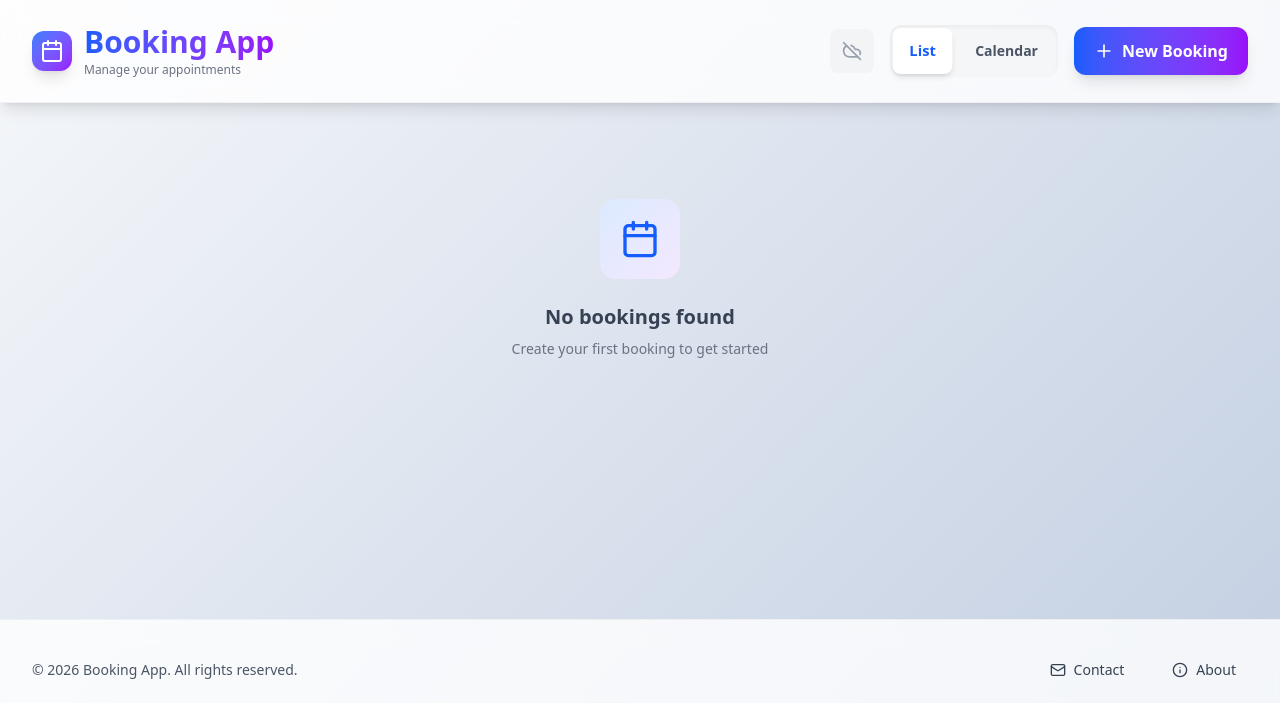
Test: Form Validation › should show error for choosing a past date
Expected: the element with test id "empty-booking-list" is shown, [512,199,769,358]
Click the button with test id "new-booking-button": (1161, 51) [1074,27,1248,75]
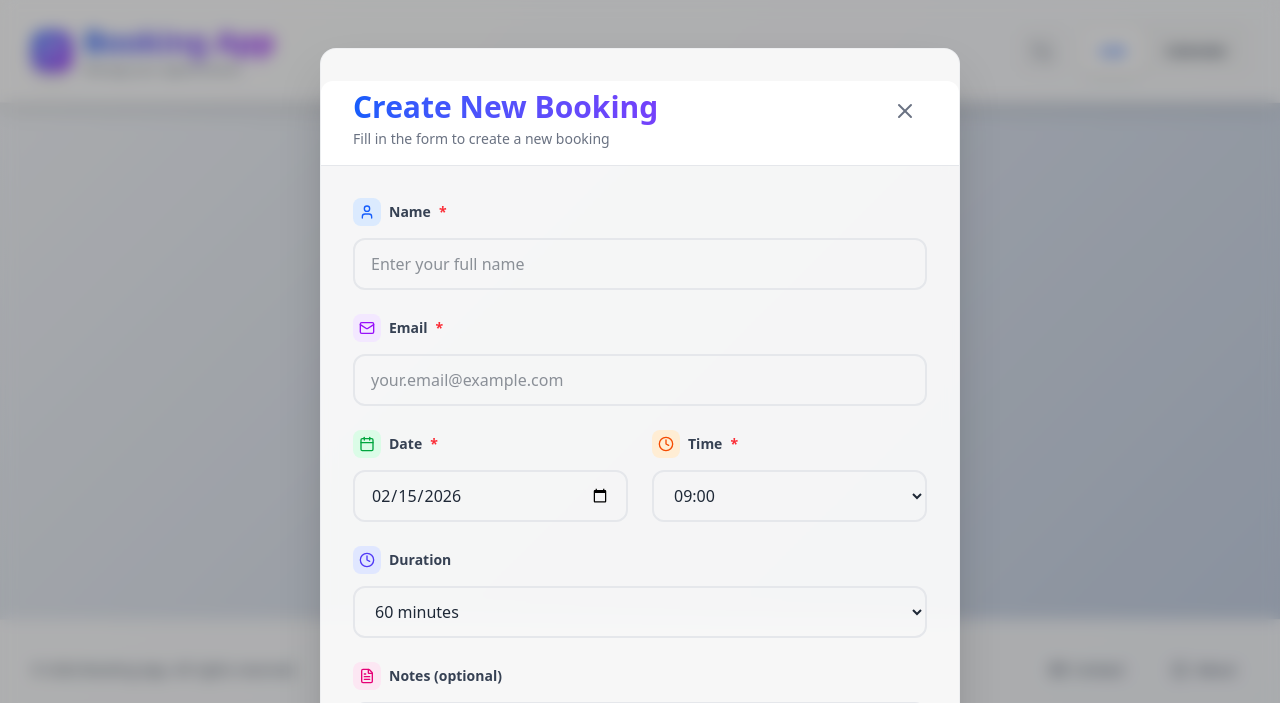
In the field with test id "booking-form-name": (640, 264) [353,238,927,290], type "Past Date Test"
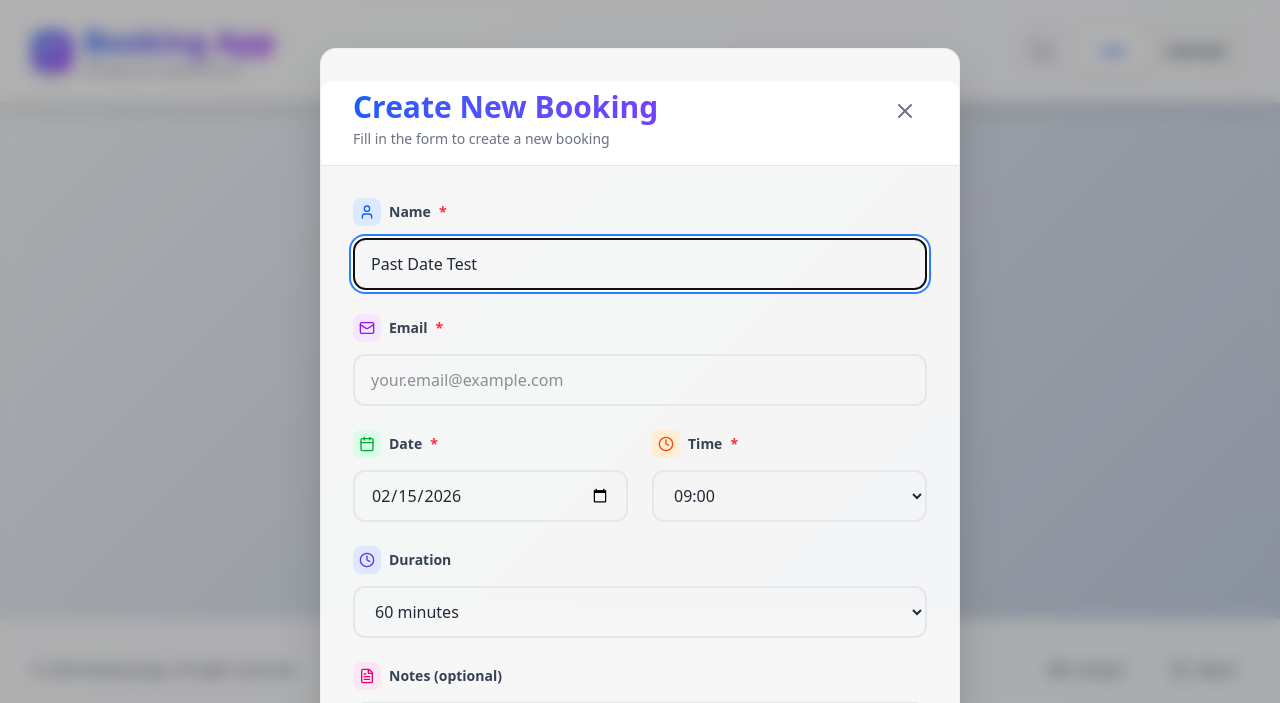
In the field with test id "booking-form-email": (640, 380) [353,354,927,406], type "user@example.com"
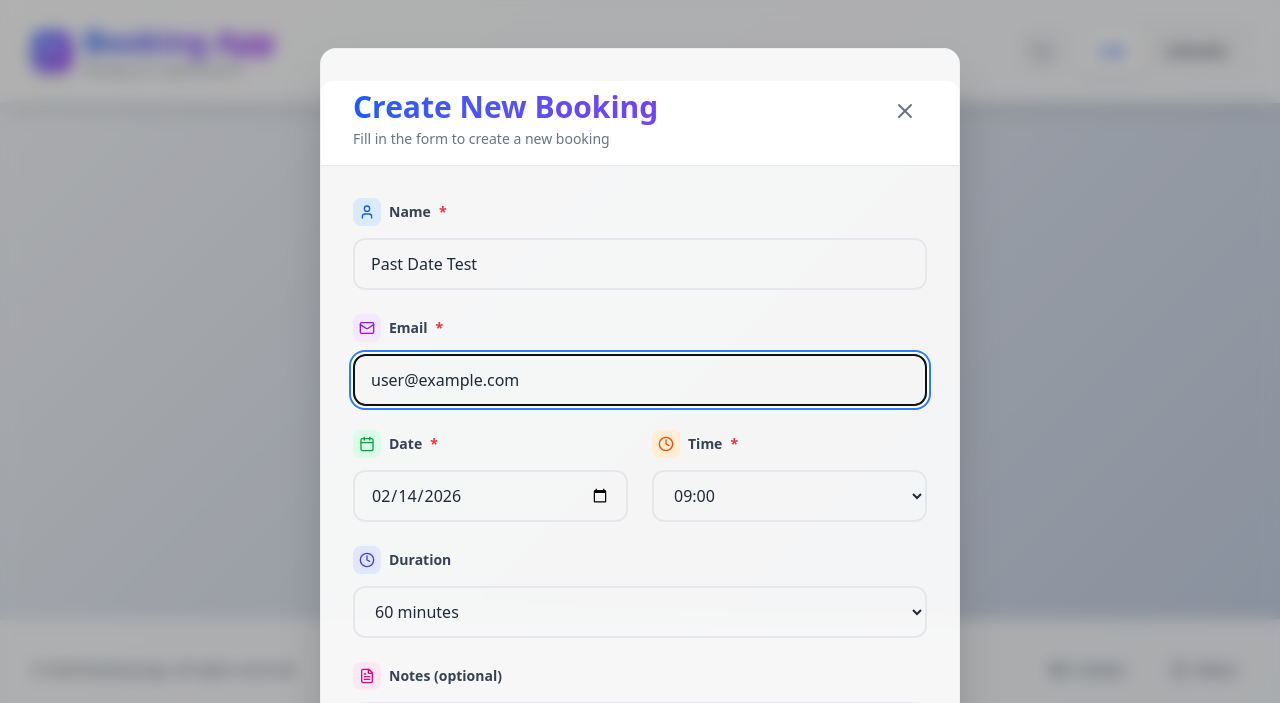
Scroll
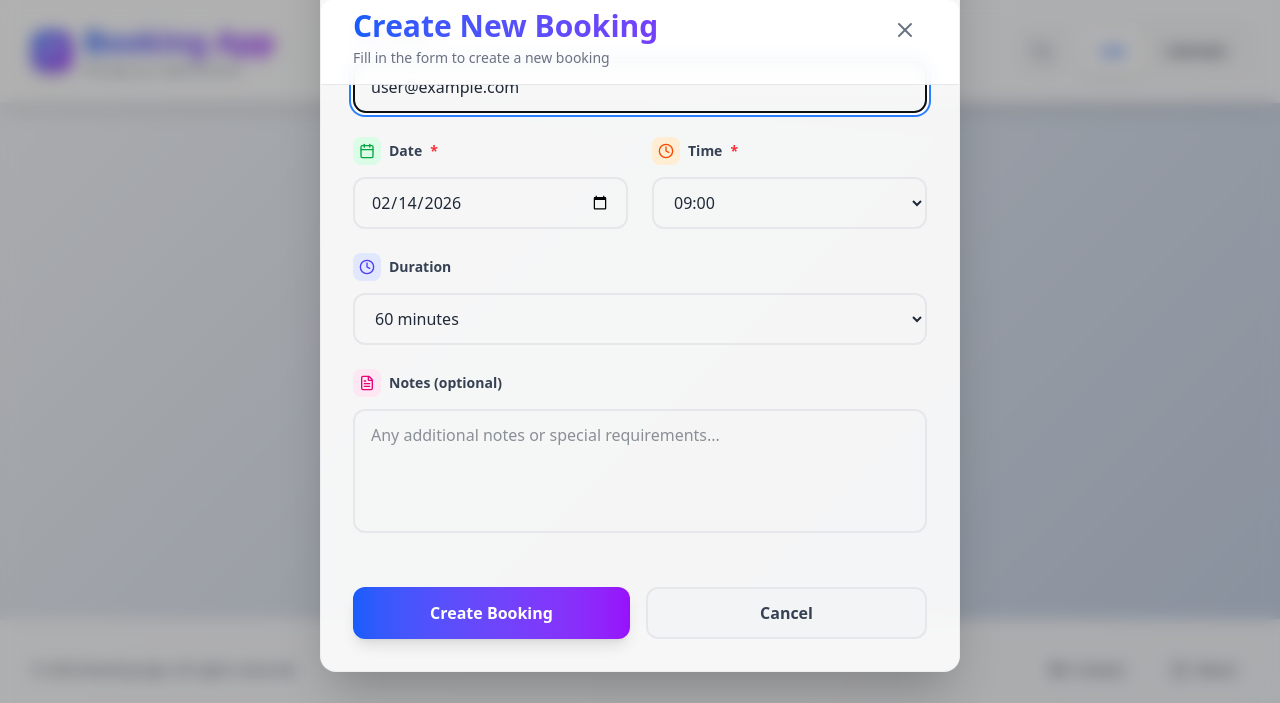
Click the button with test id "booking-form-submit": (492, 613) [353,587,630,639]
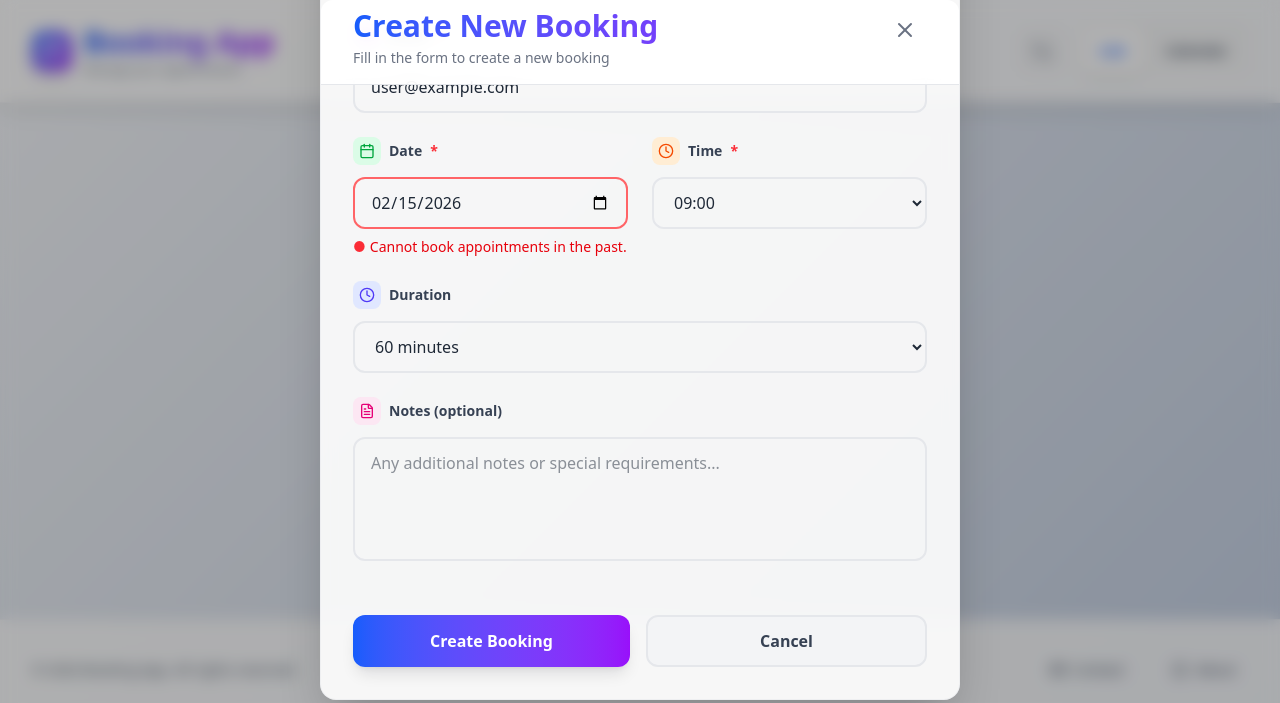
Expected: the element with test id "booking-form-modal" is shown, [304,0,976,700]
Expected: the element with test id "booking-form-date-error" is shown, [353,237,628,257]
